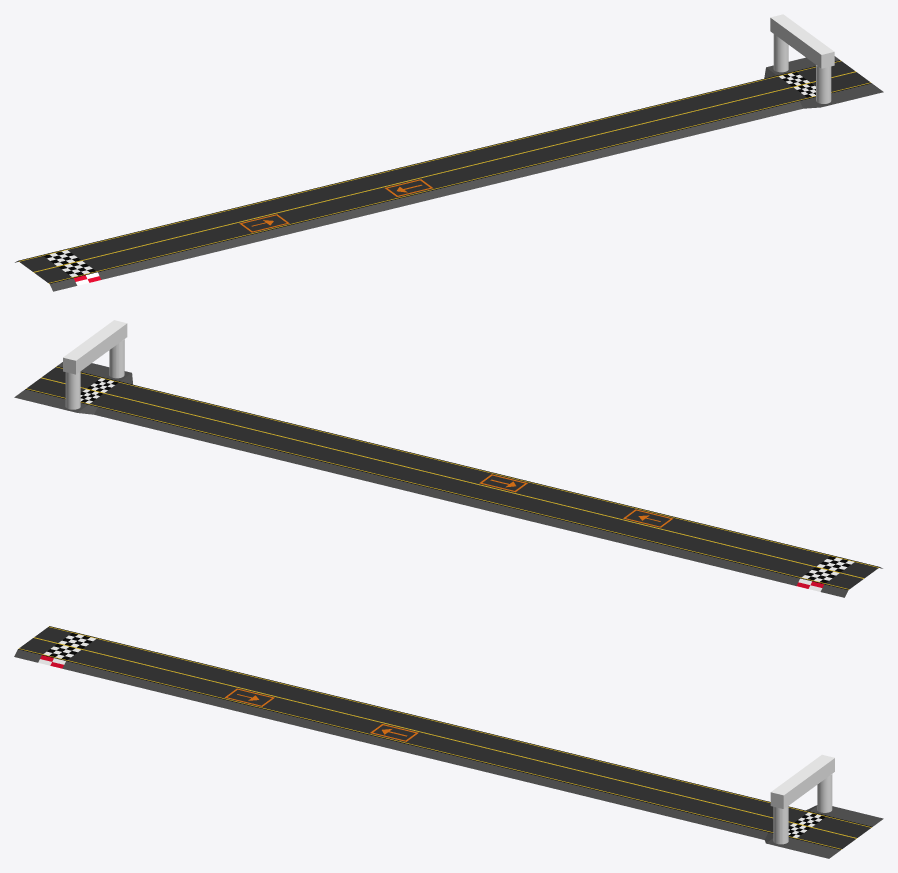
The model's file is Track.glb.
3 renders of one model, top to bottom at view 1: azimuth 30°, elevation 25°; view 2: azimuth 150°, elevation 25°; view 3: azimuth 330°, elevation 25°, orthographic.
Visible parts, largest first — view 1: Plane; view 2: Plane; view 3: Plane.
Part boxes in pixels (x1,y1,x2,y2): Plane: [15, 14, 883, 291]; Plane: [14, 320, 882, 597]; Plane: [14, 626, 883, 858].
Size of the model in its own units: 125 by 8.02 by 14.43.
